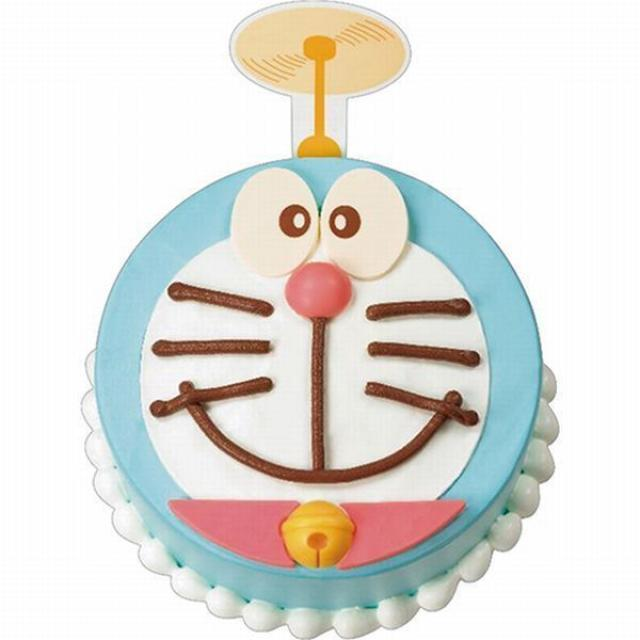doraemon: (64, 106, 582, 639)
